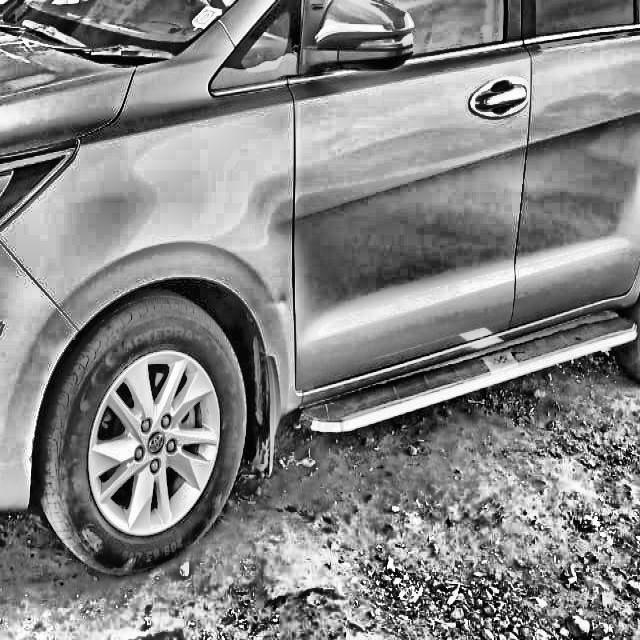light_vehicle: (0, 0, 640, 579)
